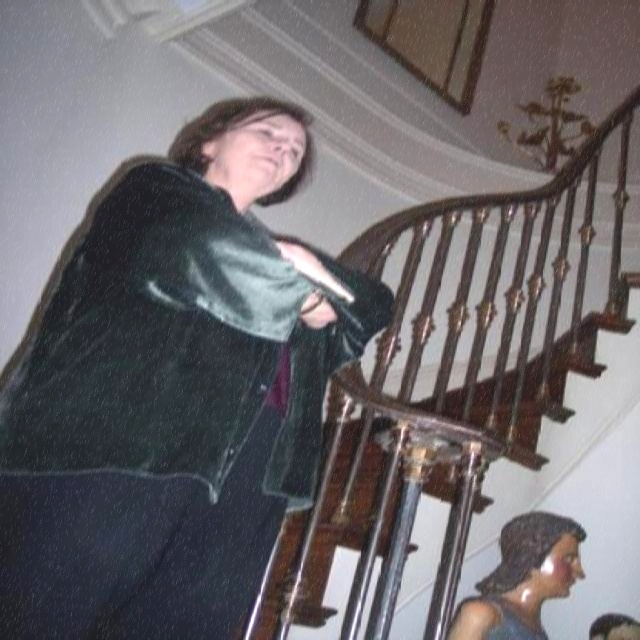stair: (235, 84, 639, 640)
